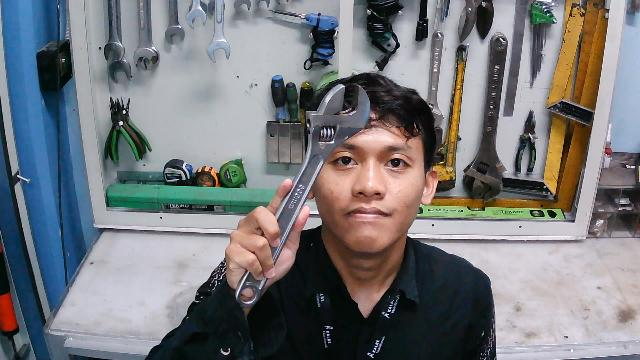kunci_inggris: (232, 82, 374, 309)
